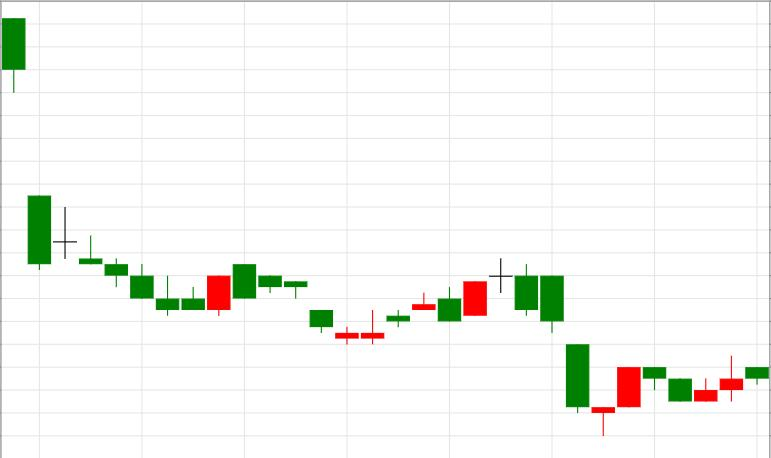bullish_engulfing_rise: (52, 208, 231, 316)
evening_star_fall: (336, 258, 538, 345)
morning_star_rise: (489, 258, 641, 436)
